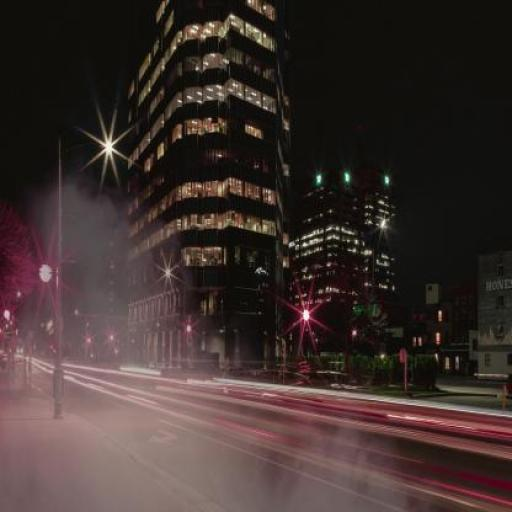street light: (53, 131, 116, 419)
